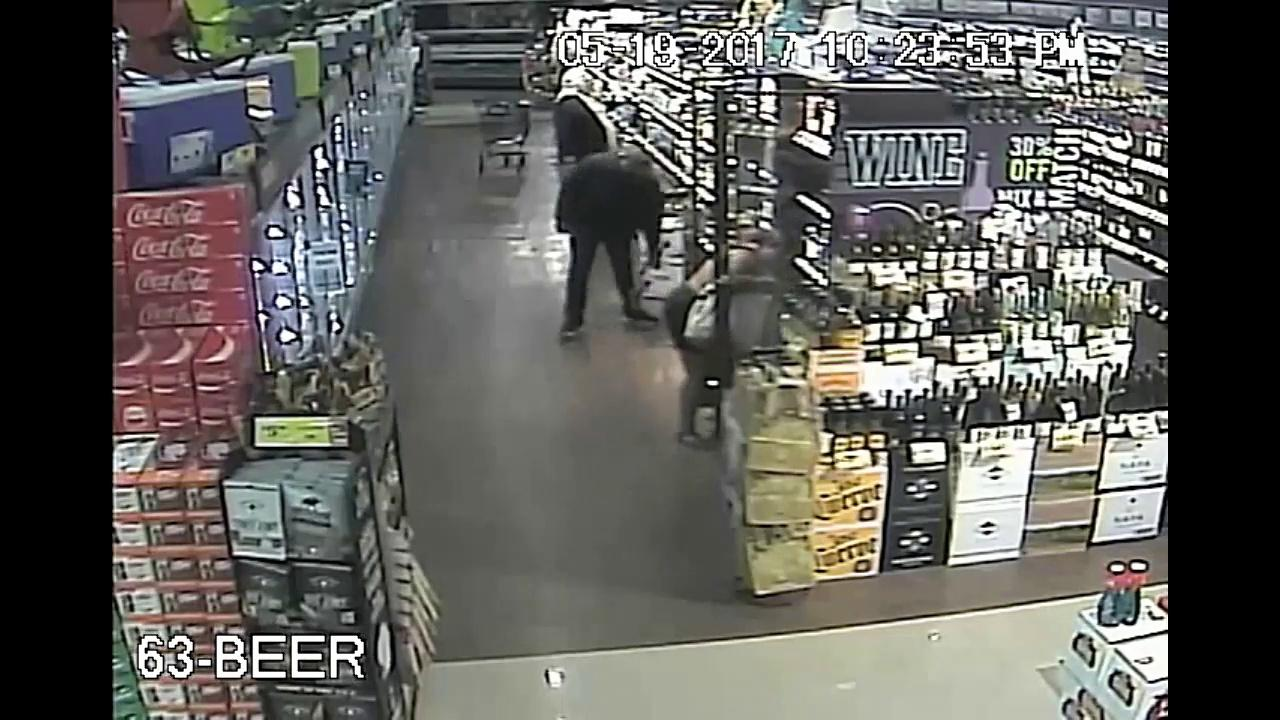Customer-Bagpack: (685, 278, 791, 366)
Regular: (529, 55, 611, 194), (579, 139, 662, 238)
Shoplifting: (630, 191, 835, 478)
